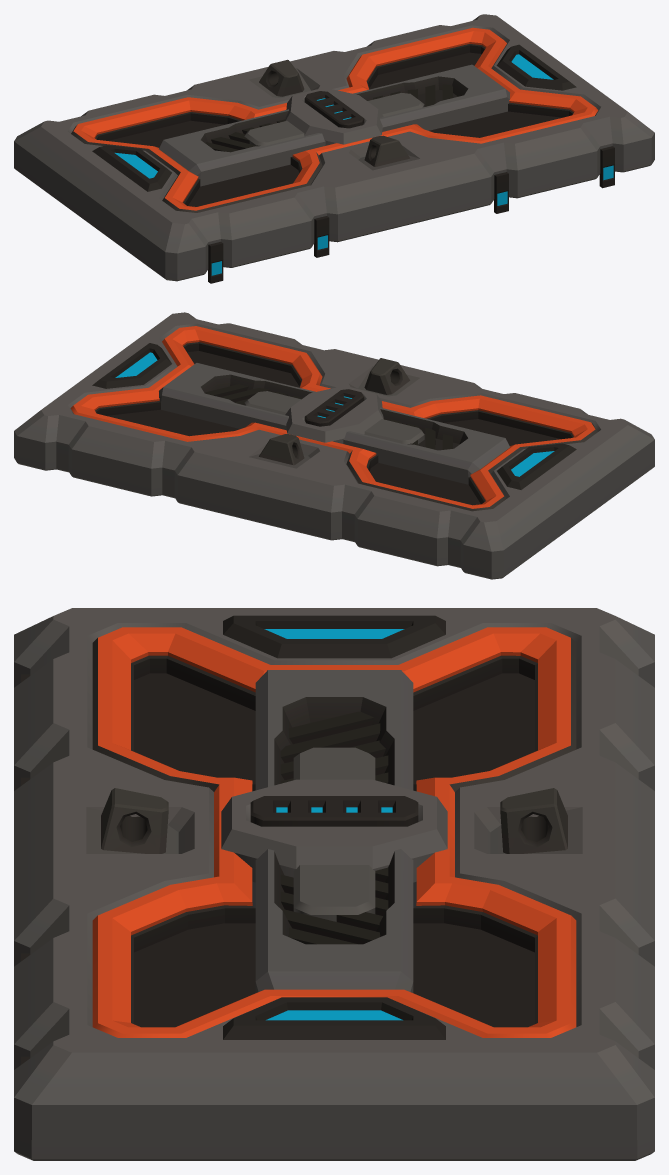
File: Container_06_Cap.fbx
3 renders of one model, top to bottom at view 1: azimuth 30°, elevation 25°; view 2: azimuth 150°, elevation 25°; view 3: azimuth 270°, elevation 25°, orthographic. The views are drawn at different scales.
Parts seen in each view (by area): view 1: Container_06_Cap; view 2: Container_06_Cap; view 3: Container_06_Cap.
Part boxes in pixels (x1,y1,x2,y2): Container_06_Cap: (14,14,654,283); Container_06_Cap: (14,312,654,579); Container_06_Cap: (14,608,654,1160).
Bounding box in the file's own units: 83.99 × 12.33 × 47.6.
